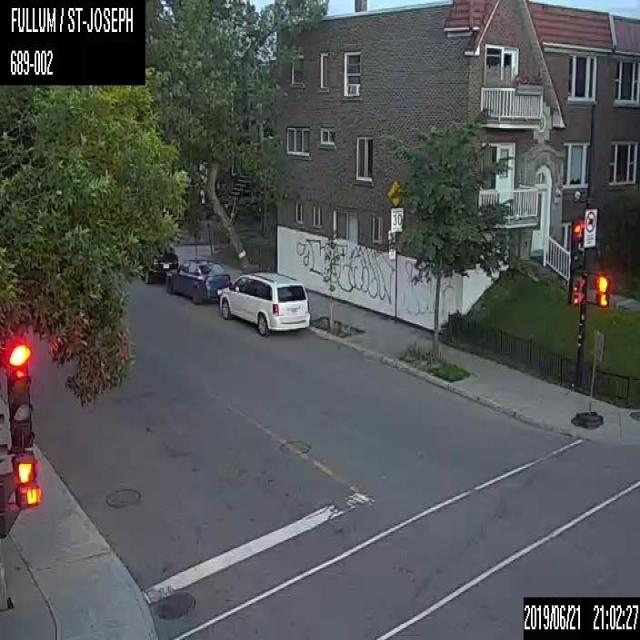construction: (570, 329, 604, 428)
vehicle: (217, 272, 312, 336), (164, 257, 230, 303), (132, 242, 178, 284)
